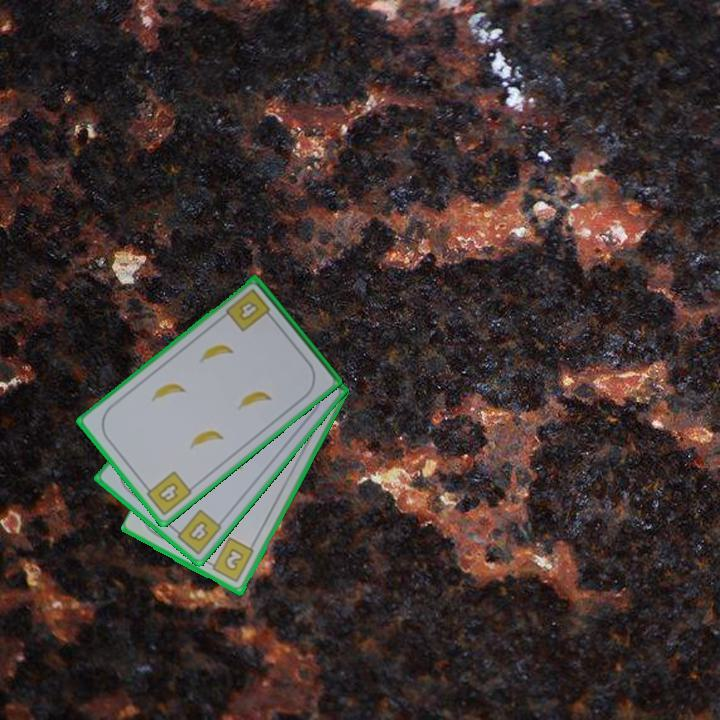2b: (204, 535, 257, 586)
4b: (169, 506, 225, 558), (140, 468, 195, 519), (222, 285, 276, 335)
